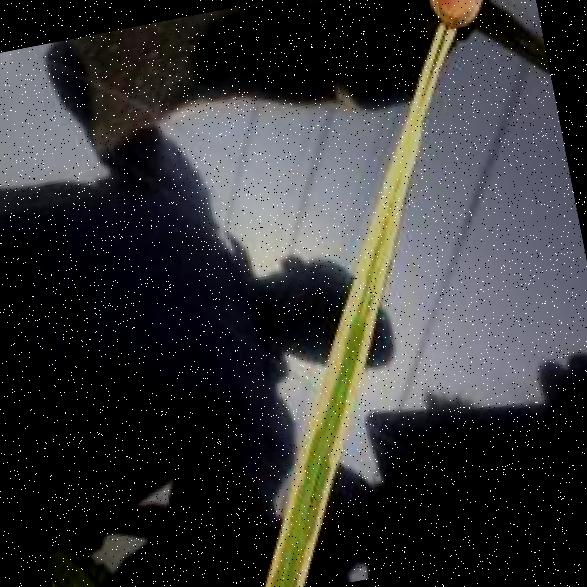Bacteria_Leaf_Blight: (225, 84, 482, 488)
